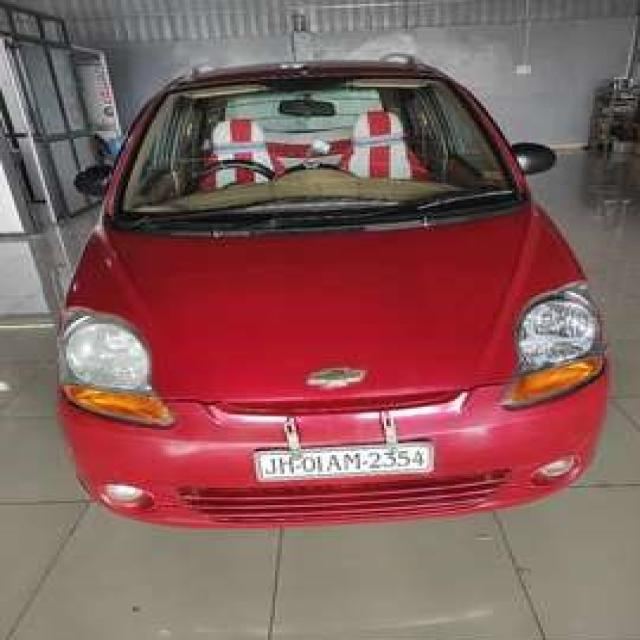licenseplate: (249, 438, 436, 482)
